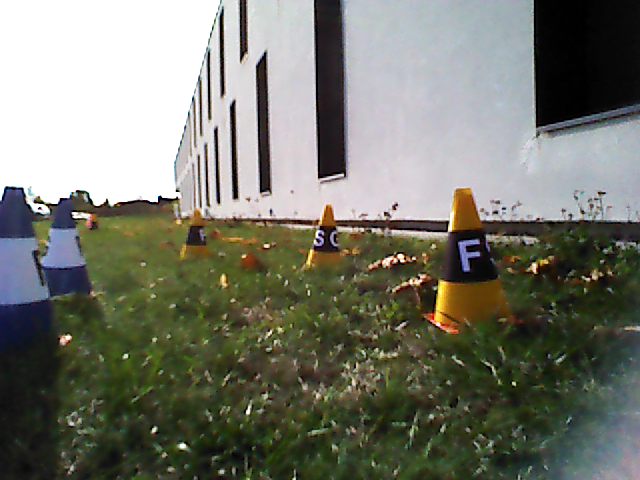bluecone: (1, 187, 48, 345), (42, 201, 89, 293)
yellowcone: (435, 190, 508, 321), (307, 205, 342, 265), (181, 209, 208, 256)
